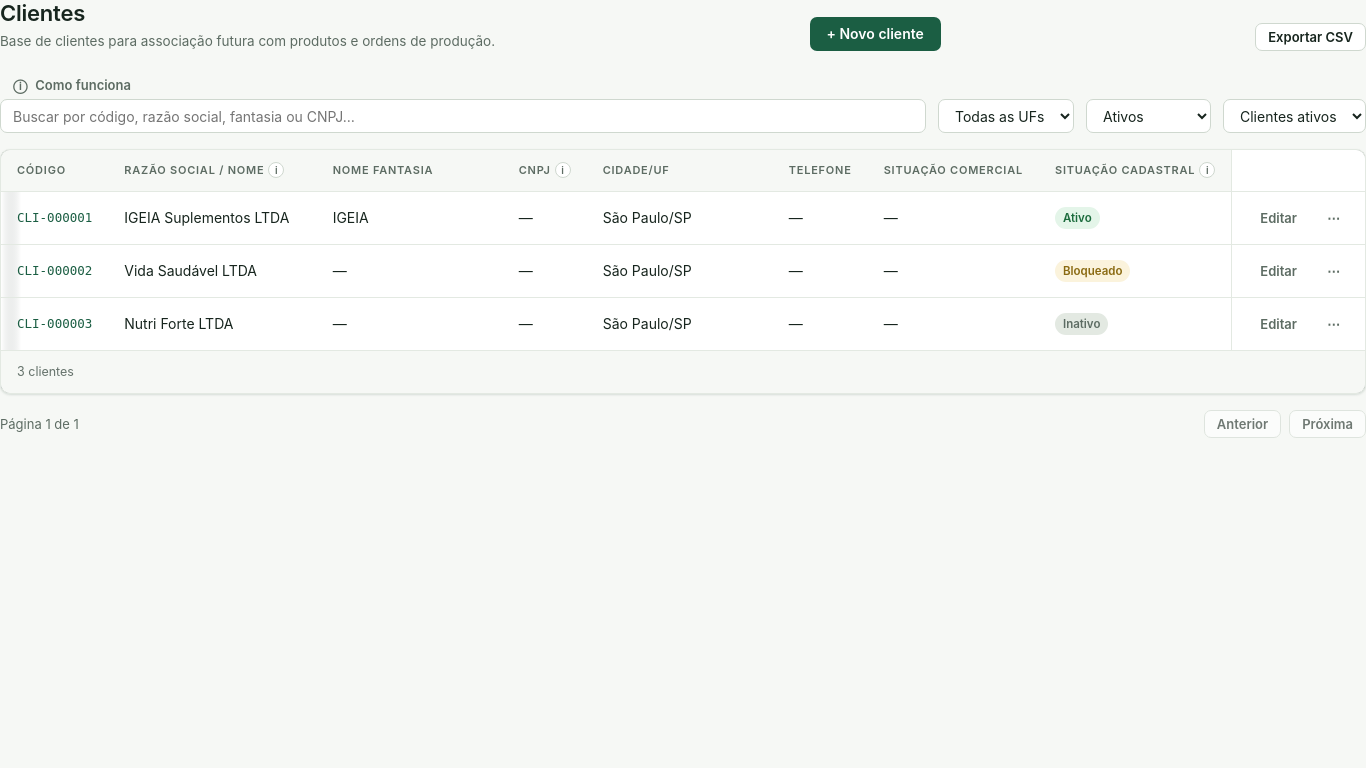
CUSTOMER-STATUS-LIFECYCLE-01 — lista de Clientes › reativar avisa que o cliente volta BLOQUEADO, com o motivo em vigor
Expected: the text "CLI-000003" is shown, left=1, top=298, right=108, bottom=350
Click the button "⋯" in the row of "CLI-000003": (1334, 324) left=1318, top=310, right=1349, bottom=338
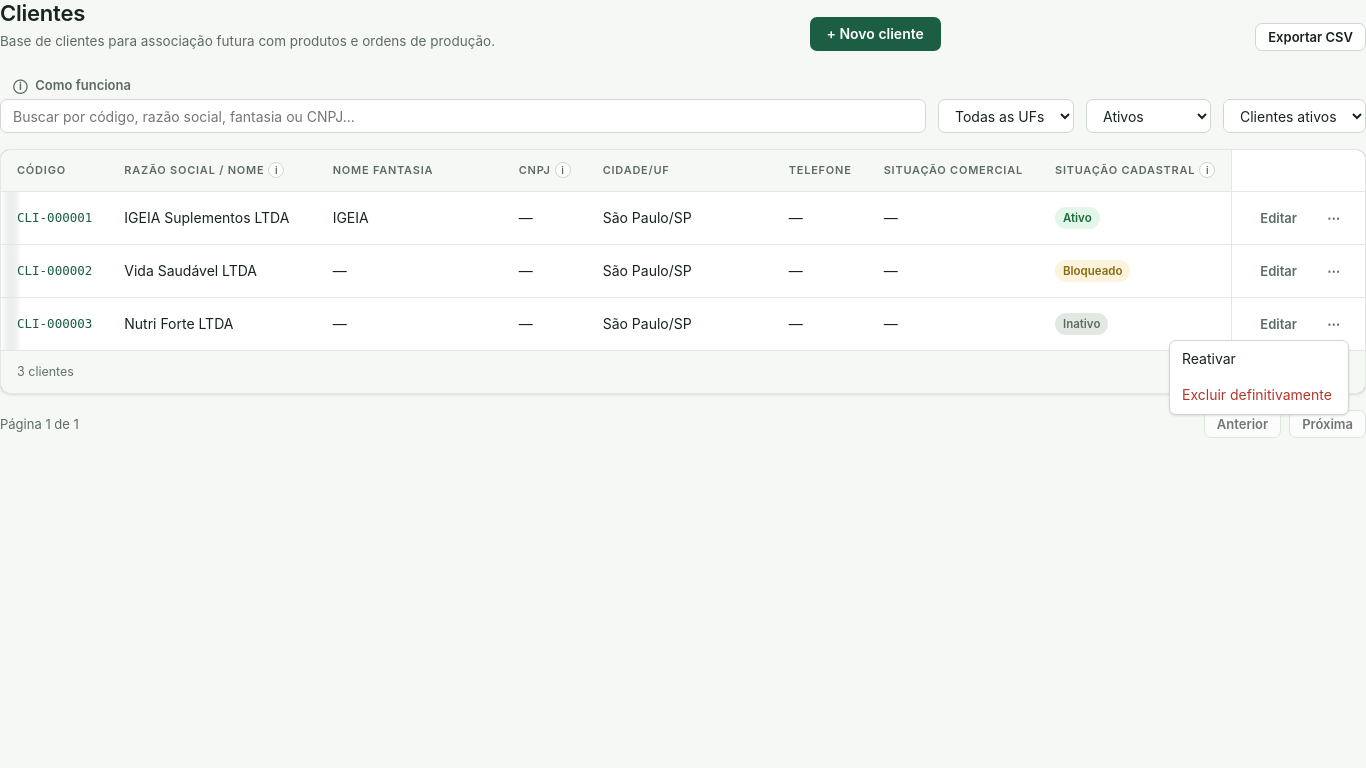
Click the menu item "Reativar": (1259, 359) left=1170, top=341, right=1348, bottom=377
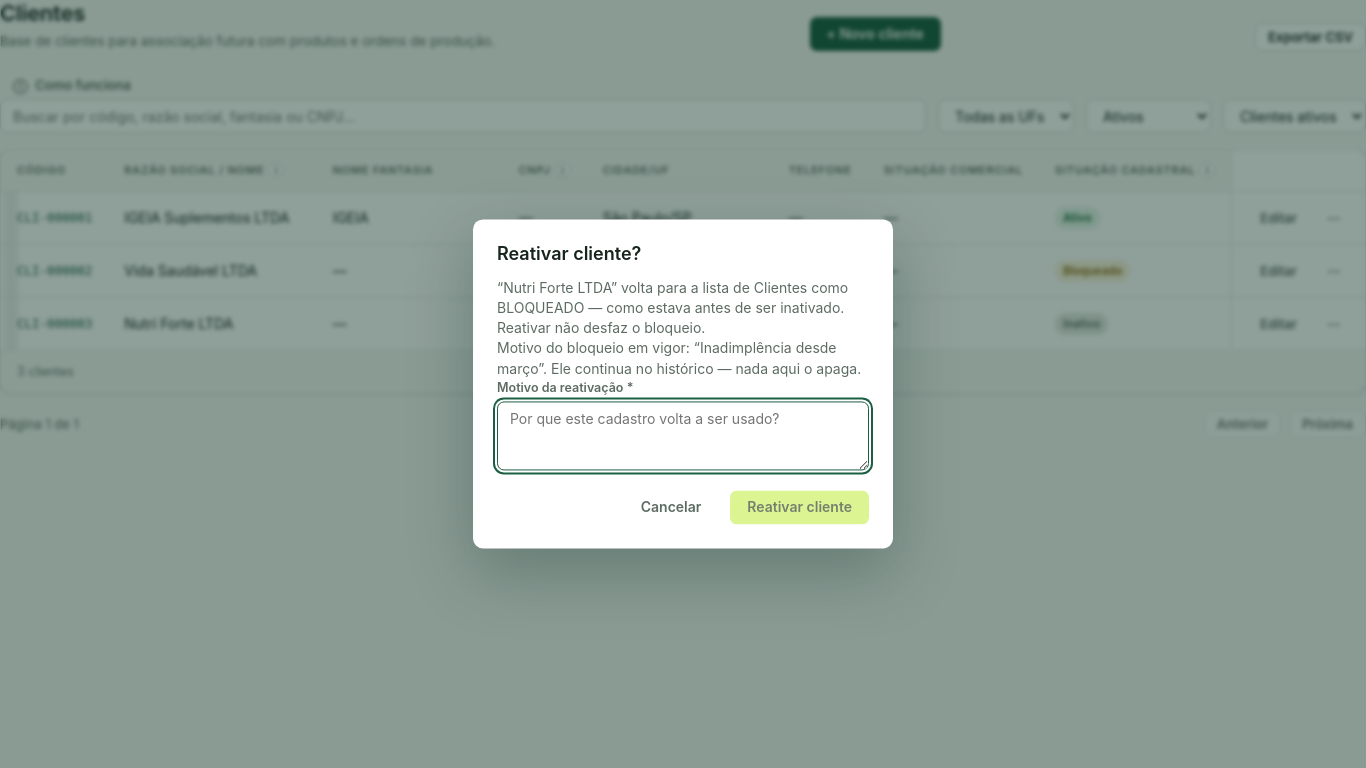
Result: the dialog shows "volta para a lista de Clientes como BLOQUEADO" at left=497, top=279, right=848, bottom=336
Result: the dialog shows "Inadimplência desde março" at left=497, top=340, right=836, bottom=377
